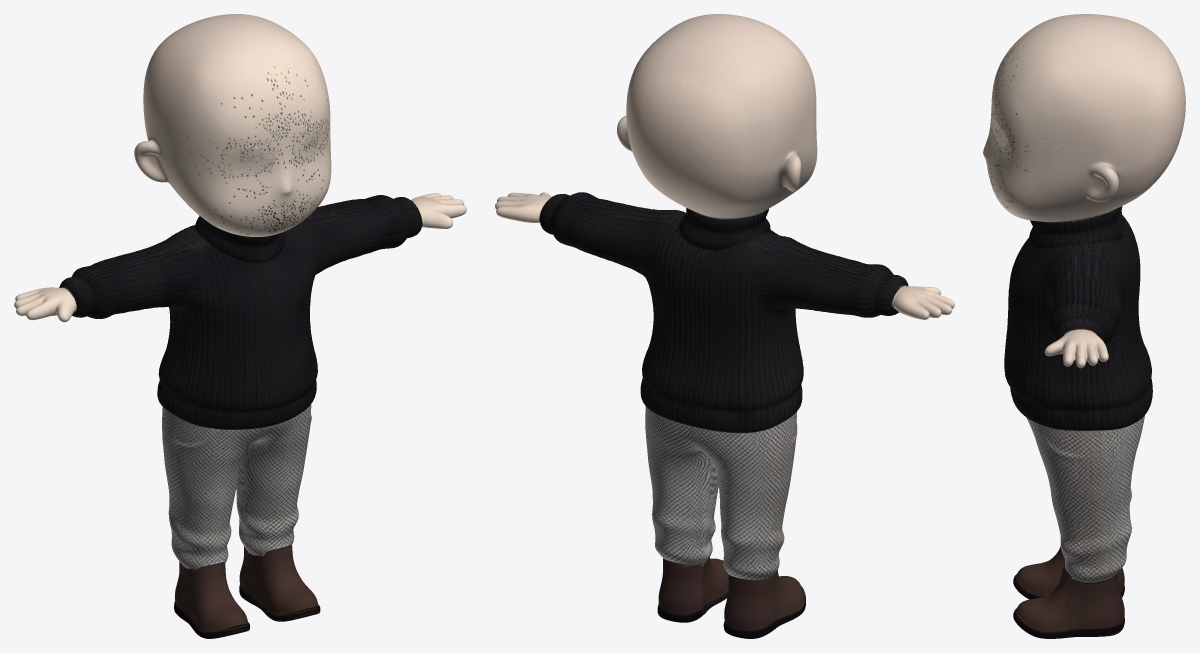
File: baked_noutfit_turtle.glb
3 views of the same model, side by side, from view 1: azimuth 30°, elevation 25°; view 2: azimuth 150°, elevation 25°; view 3: azimuth 270°, elevation 25° (orthographic).
Bounding box in the file's own units: 1.52 × 1.9 × 0.5938.
Materials: 1 (1 with a texture image).
